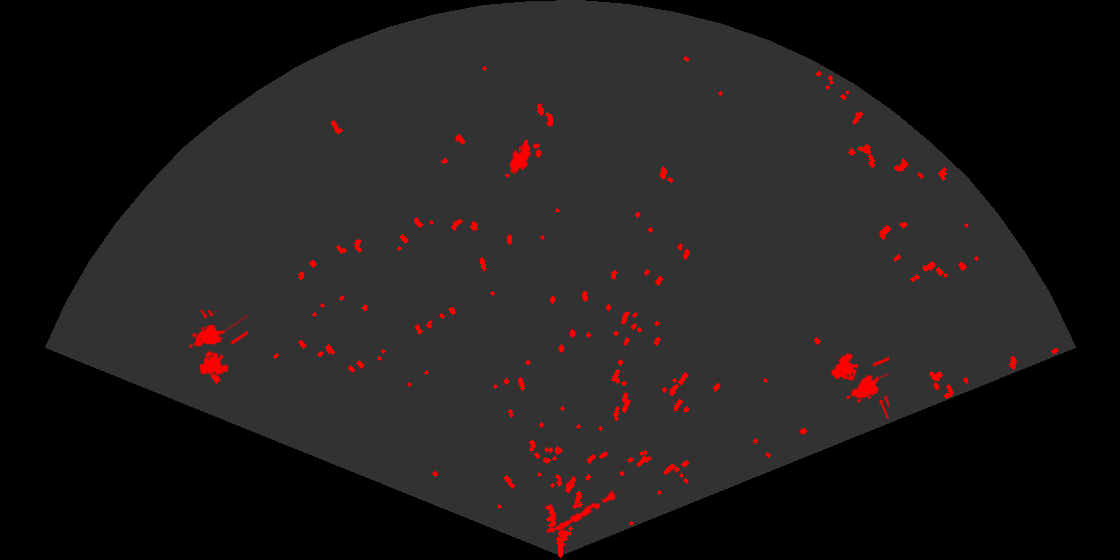AUV: (508, 137, 533, 176)
cage: (187, 310, 248, 377), (829, 351, 889, 419)
chain: (544, 487, 625, 535)
